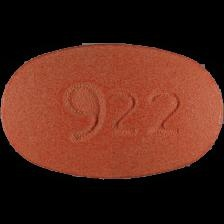54868-1978: (0, 0, 224, 224)
